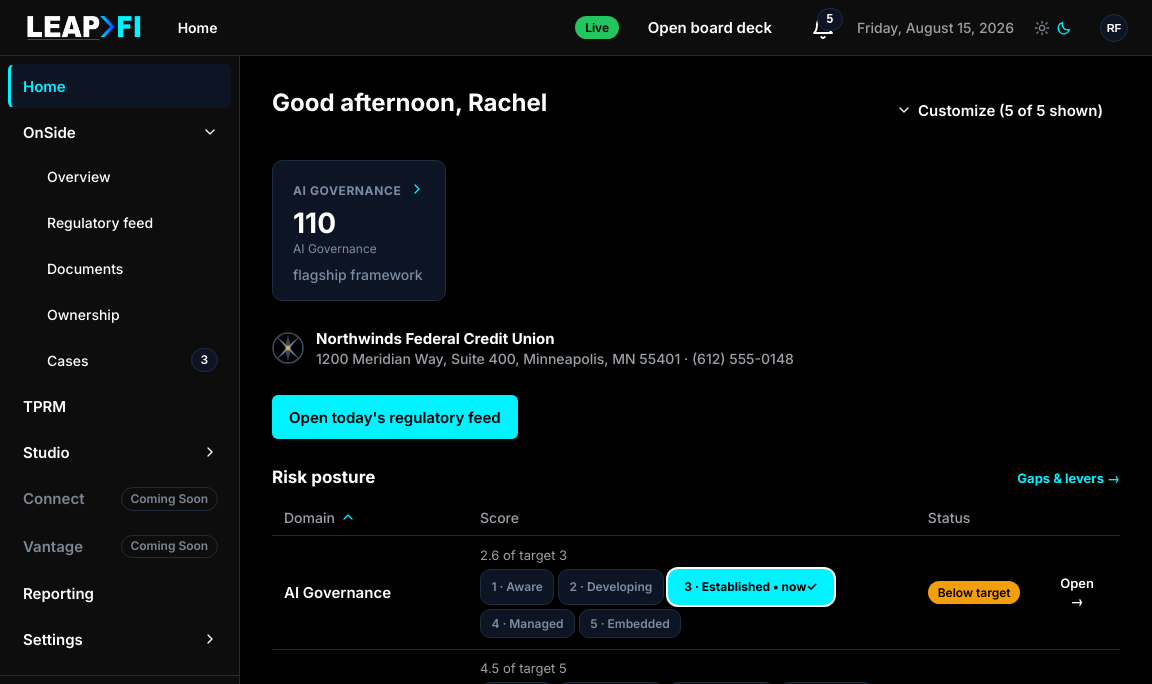
Scenario: D18 §1 — Home's product-native primary CTA (presenter_entry_redesign.md §1; supersedes design_system_spec.md §6 Home row) › the CTA navigates to OnSide · Regulatory feed (script step 2's own `do` destination) without revealing the rail
Click the button "Open today's regulatory feed" at (395, 417), box [272,395,518,439]
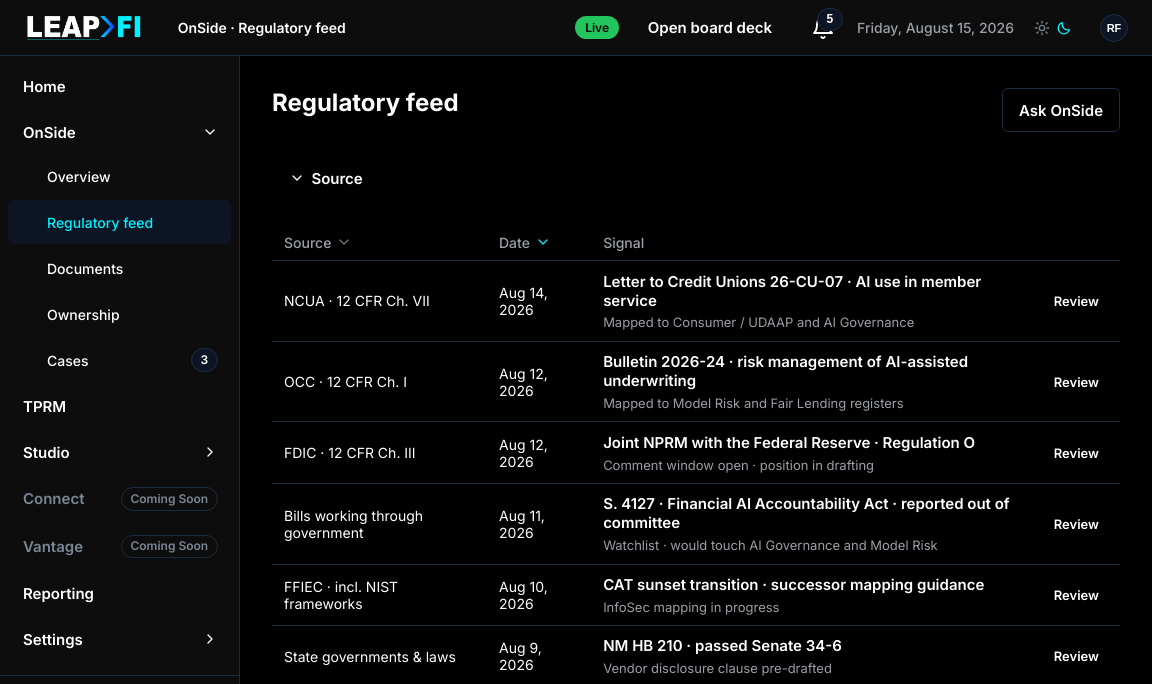
Expected: the text "OnSide · Regulatory feed" is shown, [178,19,346,36]
